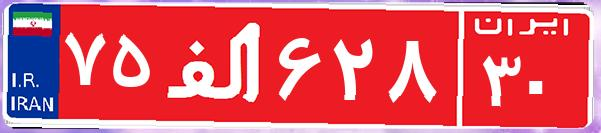0: (525, 38, 570, 115)
2: (330, 28, 385, 110)
3: (475, 38, 525, 113)
5: (110, 28, 158, 105)
6: (273, 28, 330, 110)
7: (57, 26, 110, 107)
8: (385, 28, 445, 110)
الف: (158, 15, 273, 115)
